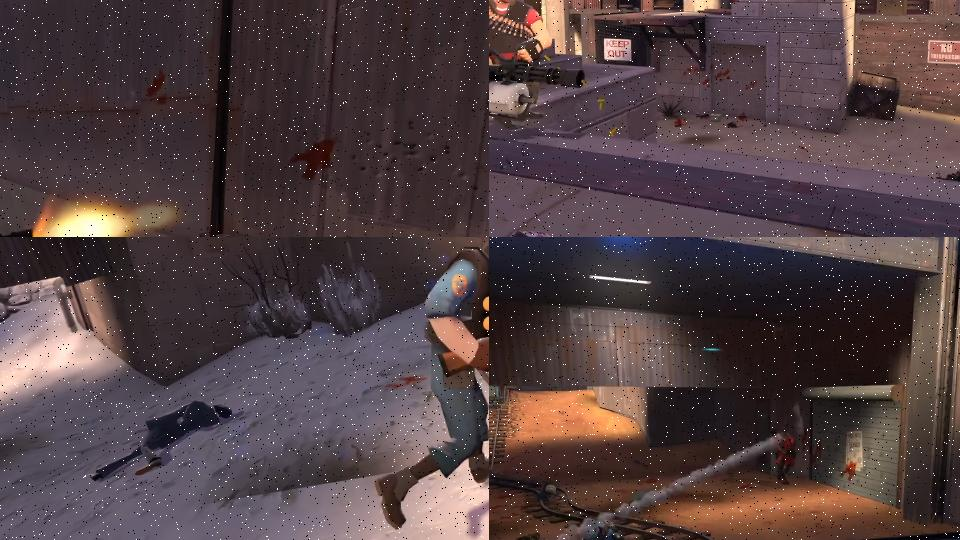Enemy: (375, 237, 489, 528), (489, 0, 586, 124), (771, 426, 796, 485), (569, 518, 632, 540)
